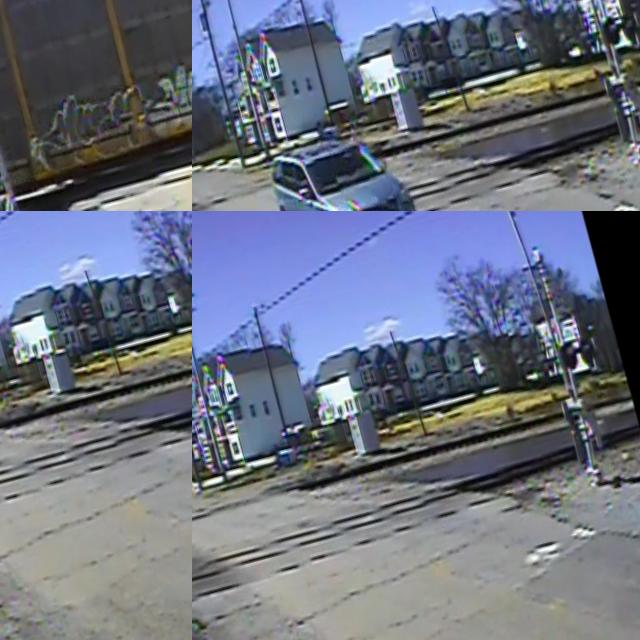barrier: (460, 211, 575, 355), (512, 0, 624, 84), (192, 374, 223, 480), (0, 316, 26, 414), (192, 69, 212, 150)
car: (261, 111, 430, 211)
rails: (192, 416, 640, 634), (192, 374, 638, 586), (192, 55, 640, 211), (192, 94, 640, 211), (0, 313, 192, 531), (0, 364, 192, 576)
traffic-signal: (539, 324, 635, 492), (584, 0, 640, 168), (192, 463, 219, 550), (0, 408, 25, 484), (192, 146, 212, 211)
train: (0, 0, 192, 211)
